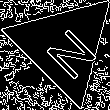N_NW: (31, 14, 96, 79)
